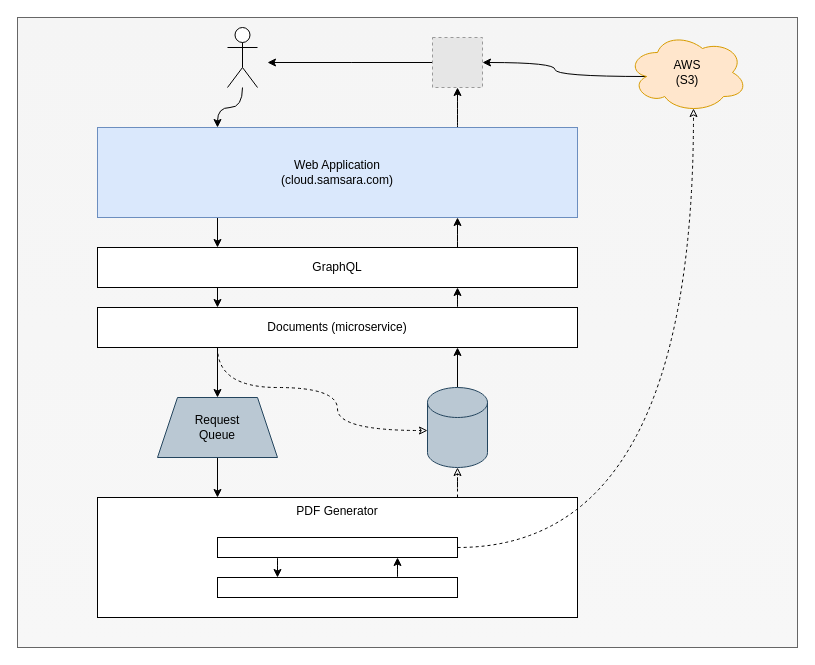
Some shapes in this 815 by 665 pixel diagram are drawn without their labels. Grey dashed boxes stand in for pictures. The centre of each missing label's shape, as x and y in pixels:
"Data" goes at (x=457, y=427).
"Renderer (typescript)" goes at (x=337, y=587).
"Worker (golang)" goes at (x=337, y=547).
